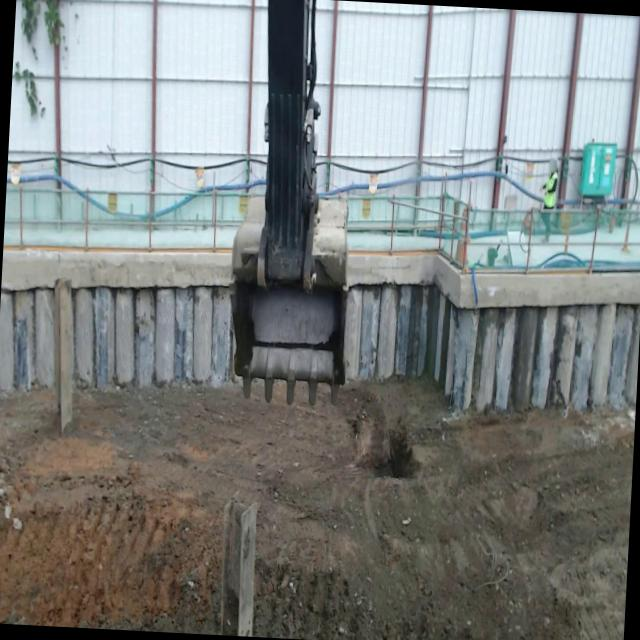red-sand: (0, 379, 635, 640)
